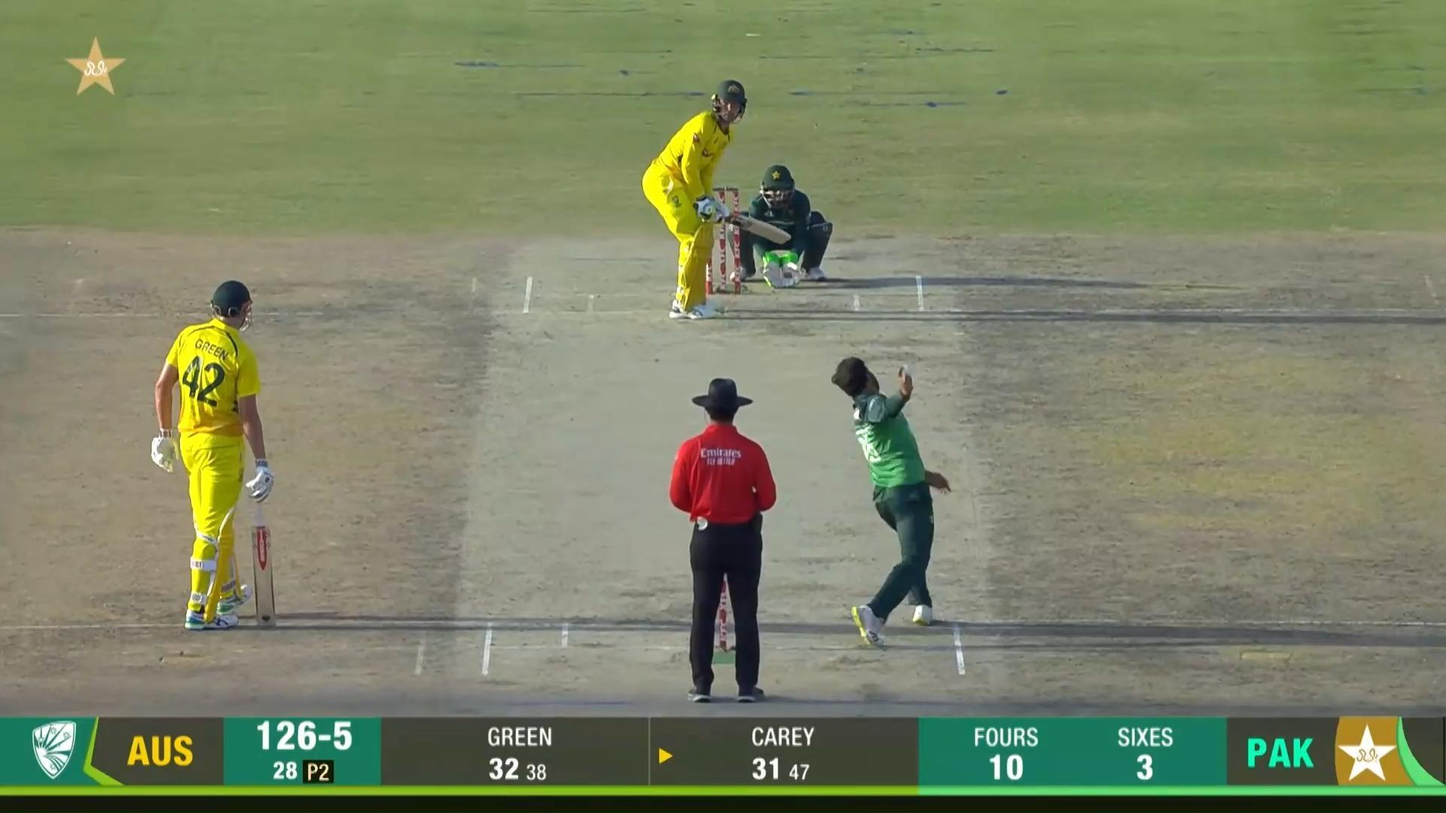BM 1: (641, 79, 794, 322)
BO: (829, 353, 953, 649)
